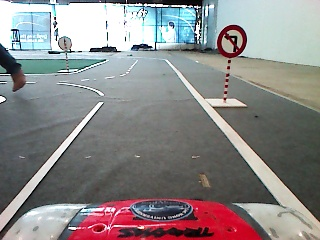ban_left: (217, 25, 247, 59)
ban_right: (217, 26, 247, 58)
